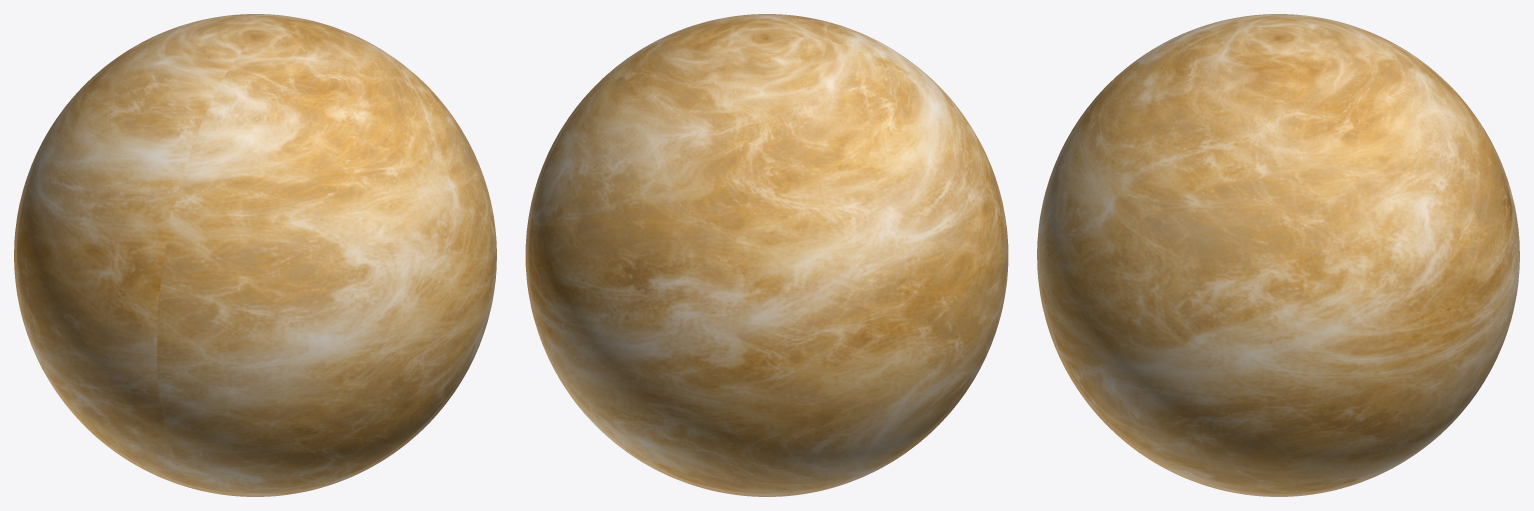
File: venus.glb
The picture shows the model from 3 angles, left to right: view 1: azimuth 30°, elevation 25°; view 2: azimuth 150°, elevation 25°; view 3: azimuth 270°, elevation 25°; orthographic projection.
Parts seen in each view (by area): view 1: Venus_Clouds, Venus; view 2: Venus_Clouds, Venus; view 3: Venus_Clouds, Venus.
Part boxes in pixels (x1,y1,x2,y2): Venus_Clouds: (14, 14, 496, 496); Venus: (17, 17, 493, 493); Venus_Clouds: (525, 14, 1008, 496); Venus: (528, 17, 1005, 493); Venus_Clouds: (1037, 14, 1519, 496); Venus: (1040, 17, 1516, 493).
Bounding box in the file's own units: 2.02 × 2.02 × 2.02.
Materials: 2 (2 with a texture image).
